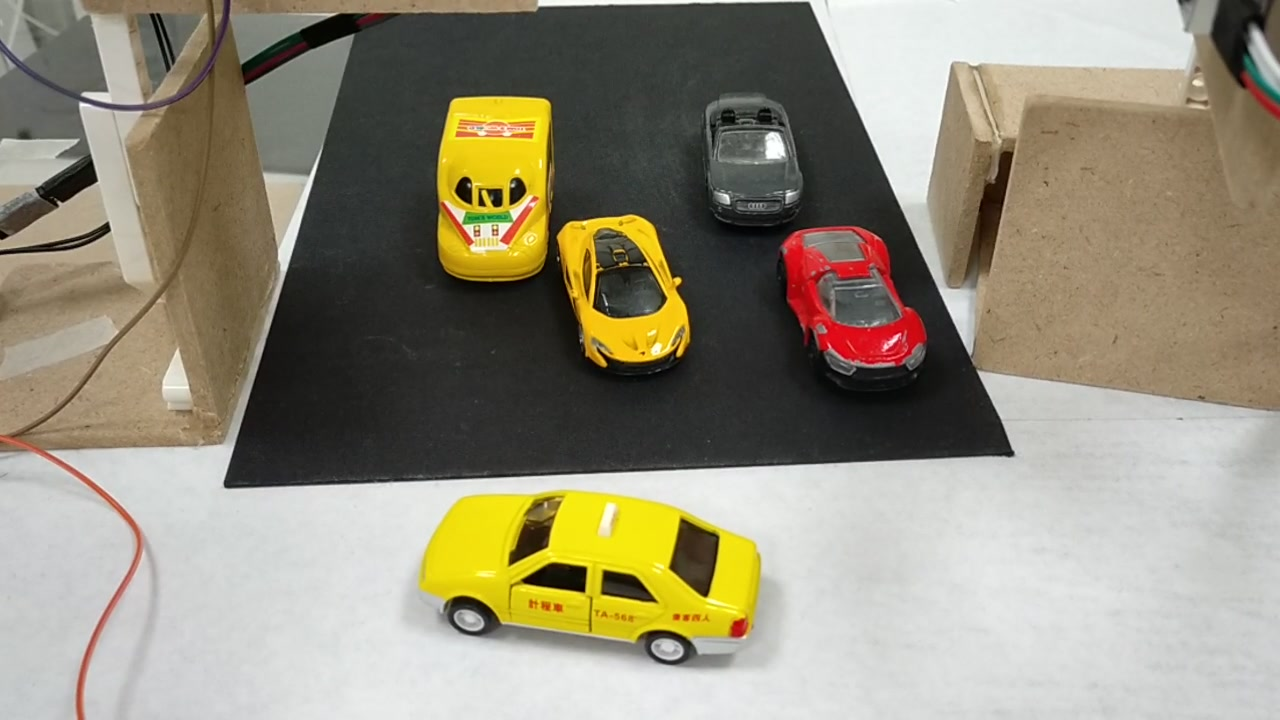car: (416, 493, 761, 656), (773, 229, 933, 402), (556, 223, 695, 381), (704, 96, 803, 226)
